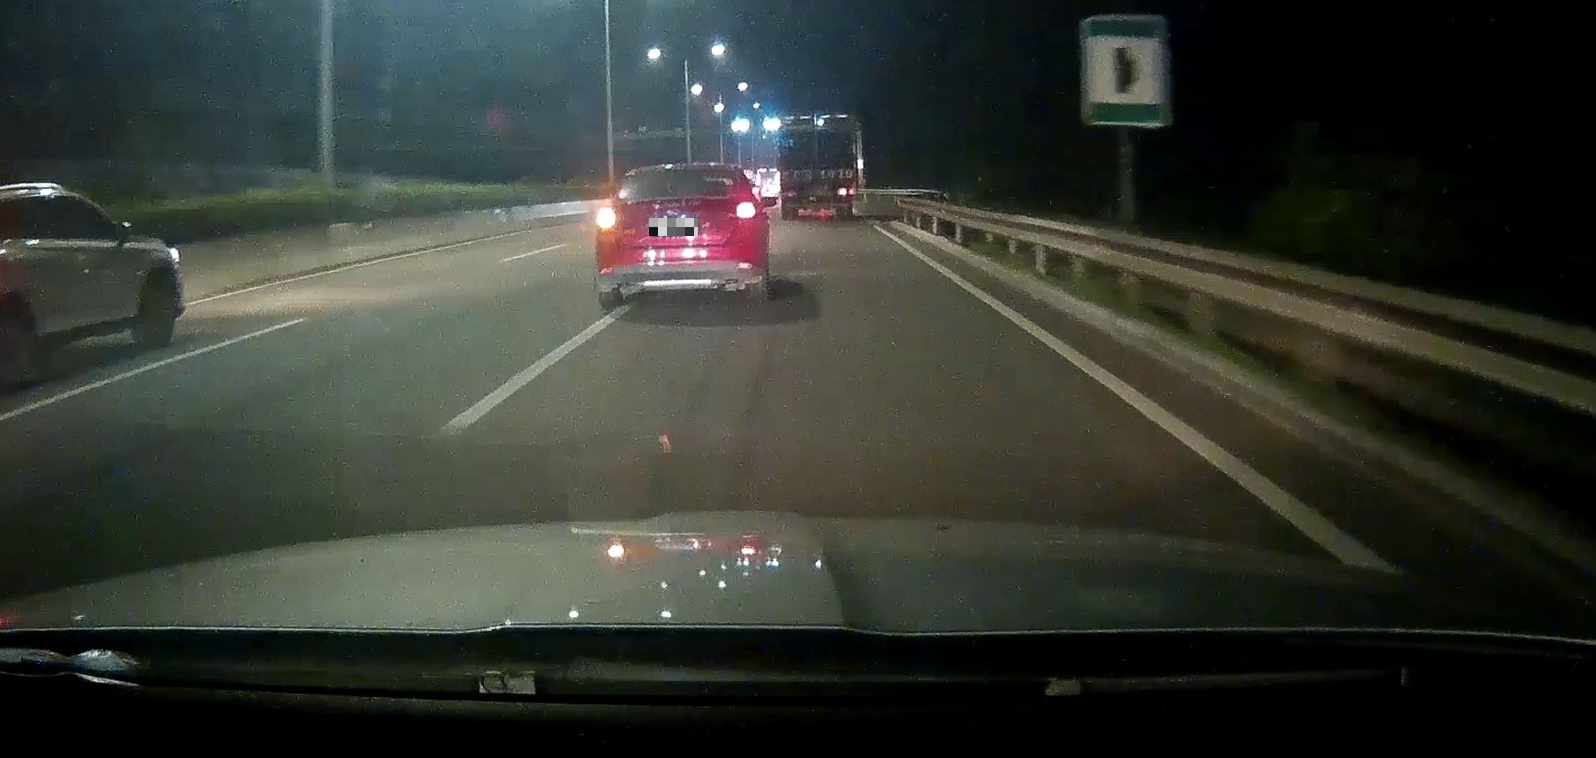L_light: (596, 206, 626, 231), (781, 191, 797, 198)
R_light: (729, 201, 762, 225), (836, 188, 854, 196)
T_light: (664, 168, 691, 176), (810, 169, 826, 175)
night-left: (594, 163, 765, 305)
night-no: (778, 115, 856, 219)
plate_1: (649, 218, 698, 236)
